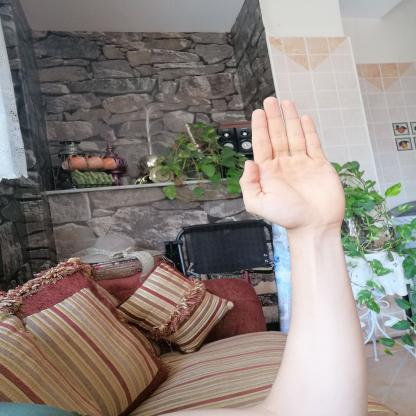SEEN: (230, 87, 352, 237)
